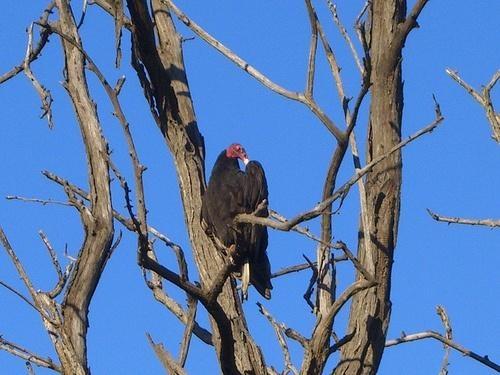bird: (200, 142, 276, 302)
